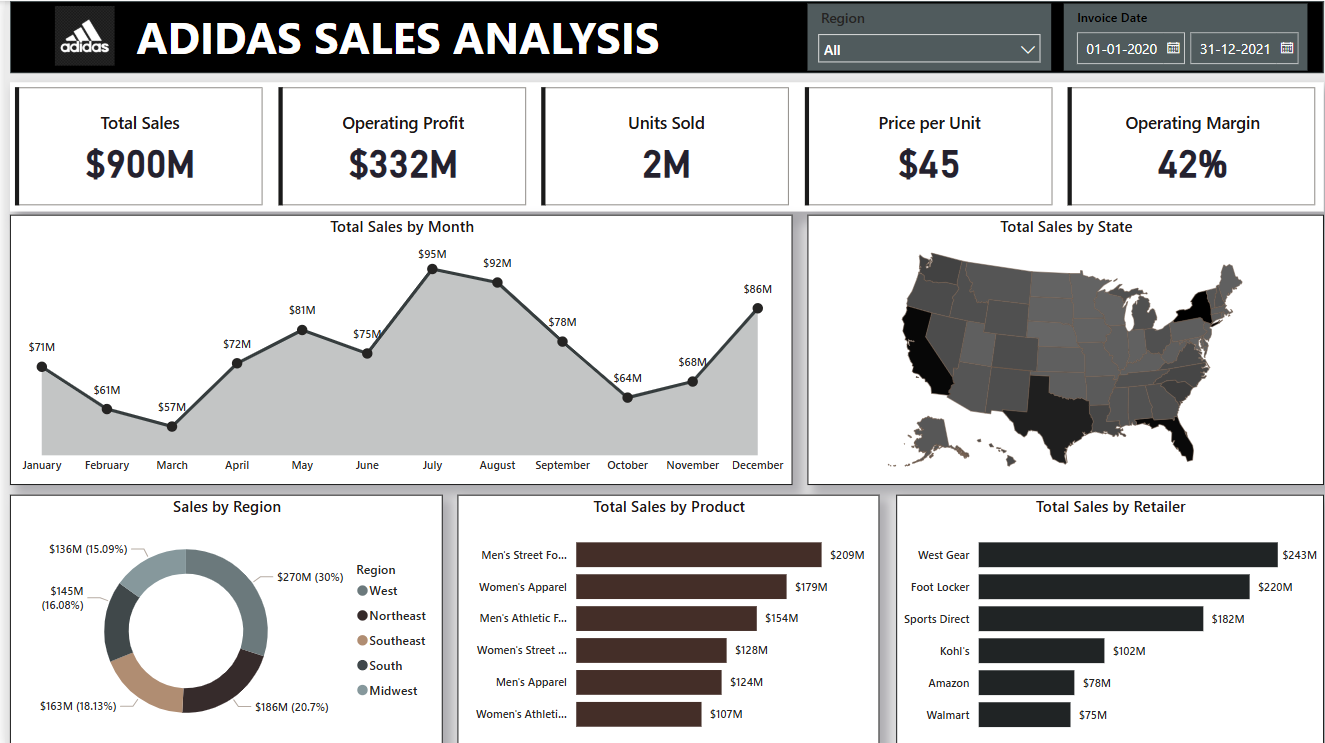

Layout of this report page (visuals, bound fields, positions):
{"tool":"powerbi","page":{"name":"Adidas Sales Analysis","canvas":[1280,720],"ordinal":0},"visuals":[{"type":"shape","box":[4.8,0,1268,70],"z":0},{"type":"textbox","box":[121.9,0,529.6,70],"z":1000},{"type":"cardVisual","fields":{"Data":["Sum(Data Sales Adidas.Total Sales)","Sum(Data Sales Adidas.Operating Profit)","Sum(Data Sales Adidas.Units Sold)","Avg(Data Sales Adidas.Price per Unit)","Avg(Data Sales Adidas.Operating Margin)"]},"box":[4.9,78.3,1268.1,124.7],"z":2000},{"type":"areaChart","title":"Total Sales by Month","fields":{"Category":["Data Sales Adidas.Invoice Date.Variation.Date Hierarchy.Month"],"Y":["Sum(Data Sales Adidas.Total Sales)"]},"box":[4.8,206.3,755.2,260.6],"z":3000},{"type":"shapeMap","title":" Total Sales by State","fields":{"Category":["Data Sales Adidas.State"],"Value":["Sum(Data Sales Adidas.Total Sales)"]},"box":[774.5,206.3,498.3,260.6],"z":4000},{"type":"donutChart","title":"Sales by Region","fields":{"Category":["Data Sales Adidas.Region"],"Y":["Sum(Data Sales Adidas.Total Sales)"]},"box":[4.8,476.5,417.4,243.7],"z":5000},{"type":"barChart","title":" Total Sales by Product","fields":{"Category":["Data Sales Adidas.Product"],"Y":["Sum(Data Sales Adidas.Total Sales)"]},"box":[436.6,476.9,407.2,243.3],"z":6000},{"type":"barChart","title":" Total Sales by Retailer","fields":{"Category":["Data Sales Adidas.Retailer"],"Y":["Sum(Data Sales Adidas.Total Sales)"]},"box":[860.2,476.5,412.6,243.7],"z":7000},{"type":"slicer","fields":{"Values":["Data Sales Adidas.Region"]},"box":[774.8,2.9,235.2,64.9],"z":8000},{"type":"slicer","fields":{"Values":["Data Sales Adidas.Invoice Date"]},"box":[1021.5,2.9,235.2,64.9],"z":9000},{"type":"image","box":[31.4,0,90.5,67.6],"z":10000}]}

Visuals, with their boxes in screenshot pixels (x1, y1, x2, y2), scaled from the page's 1280x720 canvas onto the 1325x743 screenshot:
shape: (left=5, top=0, right=1318, bottom=72)
textbox: (left=126, top=0, right=674, bottom=72)
cardVisual - Sum(Data Sales Adidas.Total Sales) x Sum(Data Sales Adidas.Operating Profit): (left=5, top=81, right=1318, bottom=209)
"Total Sales by Month" areaChart: (left=5, top=213, right=787, bottom=482)
" Total Sales by State" shapeMap: (left=802, top=213, right=1318, bottom=482)
"Sales by Region" donutChart: (left=5, top=492, right=437, bottom=742)
" Total Sales by Product" barChart: (left=452, top=492, right=873, bottom=742)
" Total Sales by Retailer" barChart: (left=890, top=492, right=1318, bottom=742)
slicer - Data Sales Adidas.Region: (left=802, top=3, right=1046, bottom=70)
slicer - Data Sales Adidas.Invoice Date: (left=1057, top=3, right=1301, bottom=70)
image: (left=33, top=0, right=126, bottom=70)
